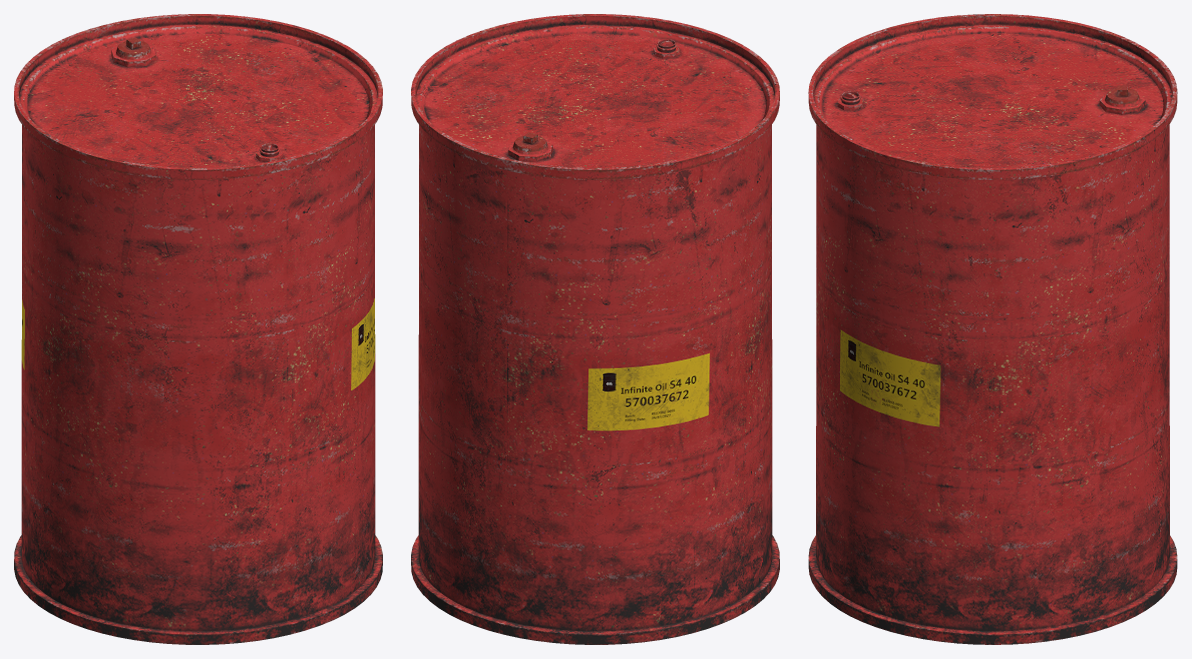
Rendered from barrel.obj.
3 renders of one model, left to right at view 1: azimuth 30°, elevation 25°; view 2: azimuth 150°, elevation 25°; view 3: azimuth 270°, elevation 25°, orthographic.
Visible parts, largest first — view 1: barrel_Cylinder.011; view 2: barrel_Cylinder.011; view 3: barrel_Cylinder.011.
Boxes of the visible parts, x1,y1,x2,y2 form: barrel_Cylinder.011: [14, 14, 382, 644]; barrel_Cylinder.011: [411, 14, 779, 644]; barrel_Cylinder.011: [808, 14, 1177, 644].
Bounding box in the file's own units: 0.7078 × 1.01 × 0.7078.
